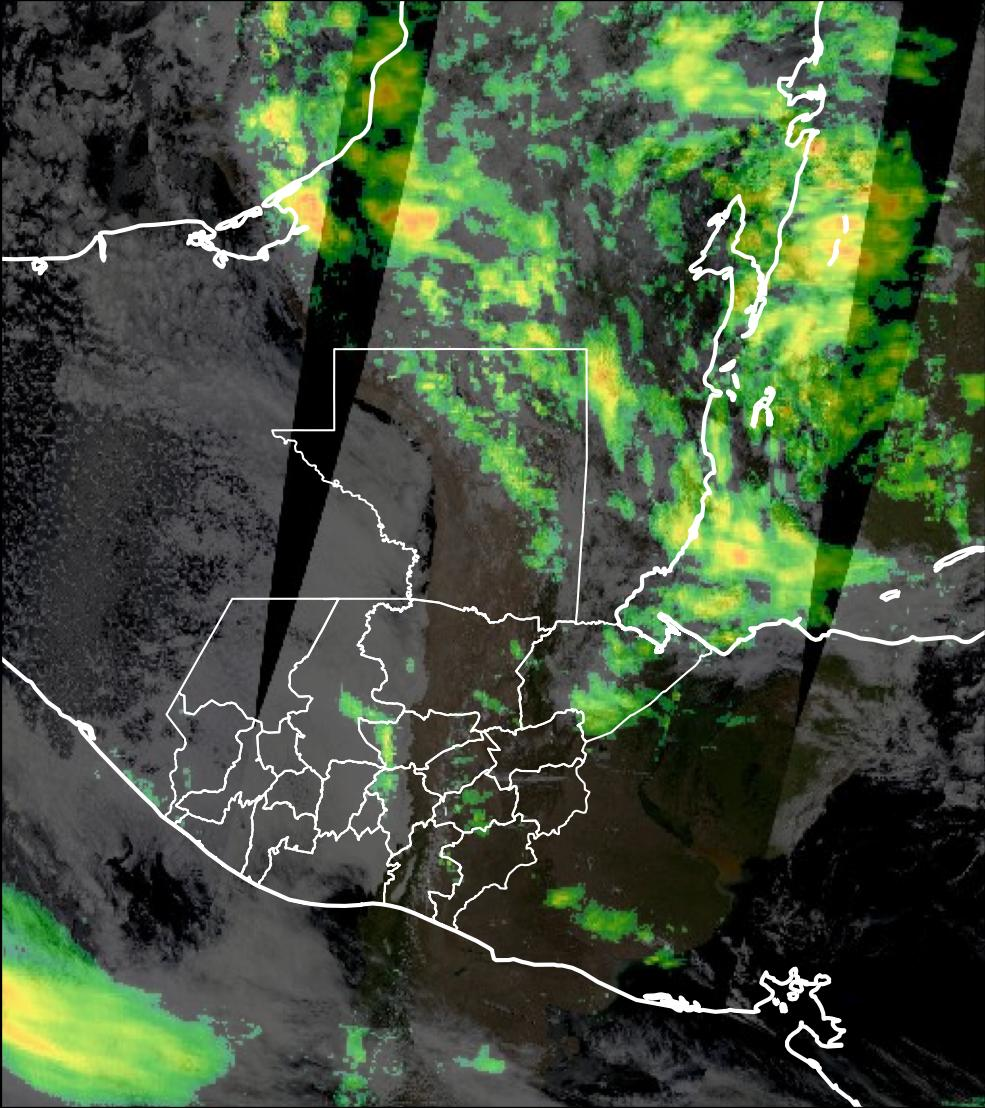precipitacion: (364, 199, 463, 260)
